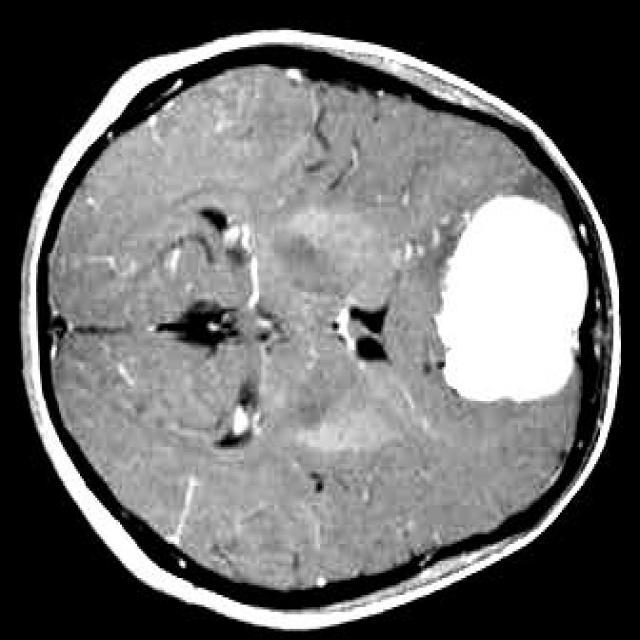tumor: (434, 192, 589, 400)
